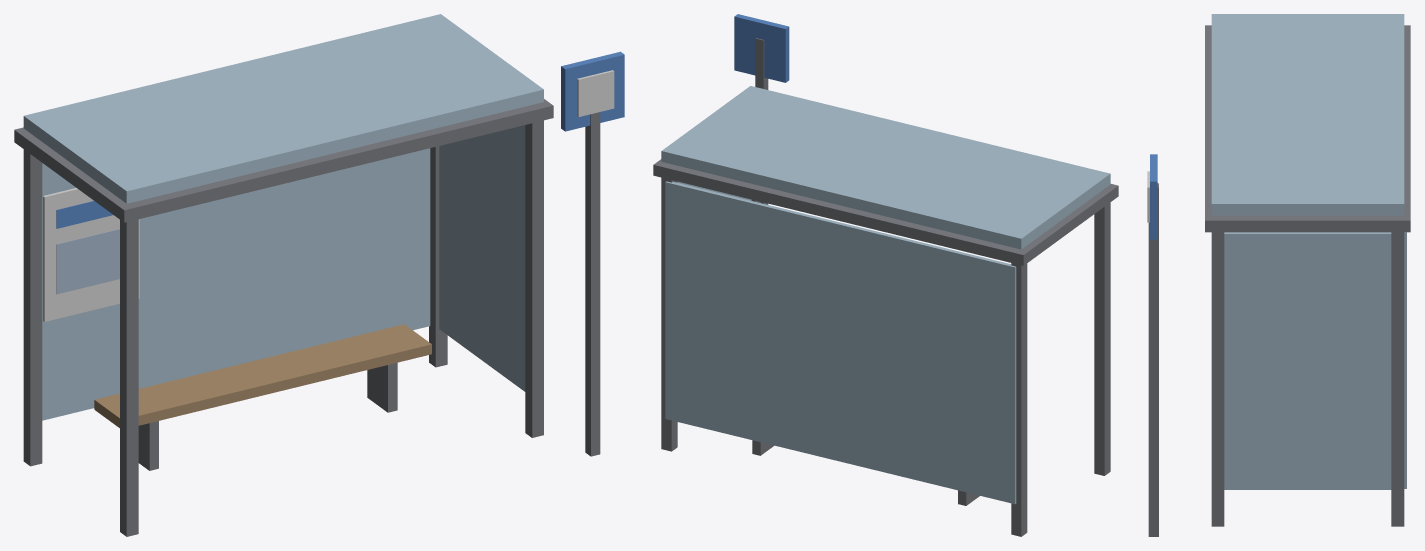
The model's file is Otobus_Duragi.glb.
The picture shows the model from 3 angles, left to right: view 1: azimuth 30°, elevation 25°; view 2: azimuth 150°, elevation 25°; view 3: azimuth 270°, elevation 25°; orthographic projection. The views are drawn at different scales.
Visible parts, largest first — view 1: Otobus_Duragi; view 2: Otobus_Duragi; view 3: Otobus_Duragi.
Boxes of the visible parts, x1,y1,x2,y2 form: Otobus_Duragi: [14, 14, 624, 536]; Otobus_Duragi: [653, 14, 1118, 536]; Otobus_Duragi: [1147, 14, 1410, 536].
Size of the model in its own units: 3.95 by 3.15 by 2.05.
